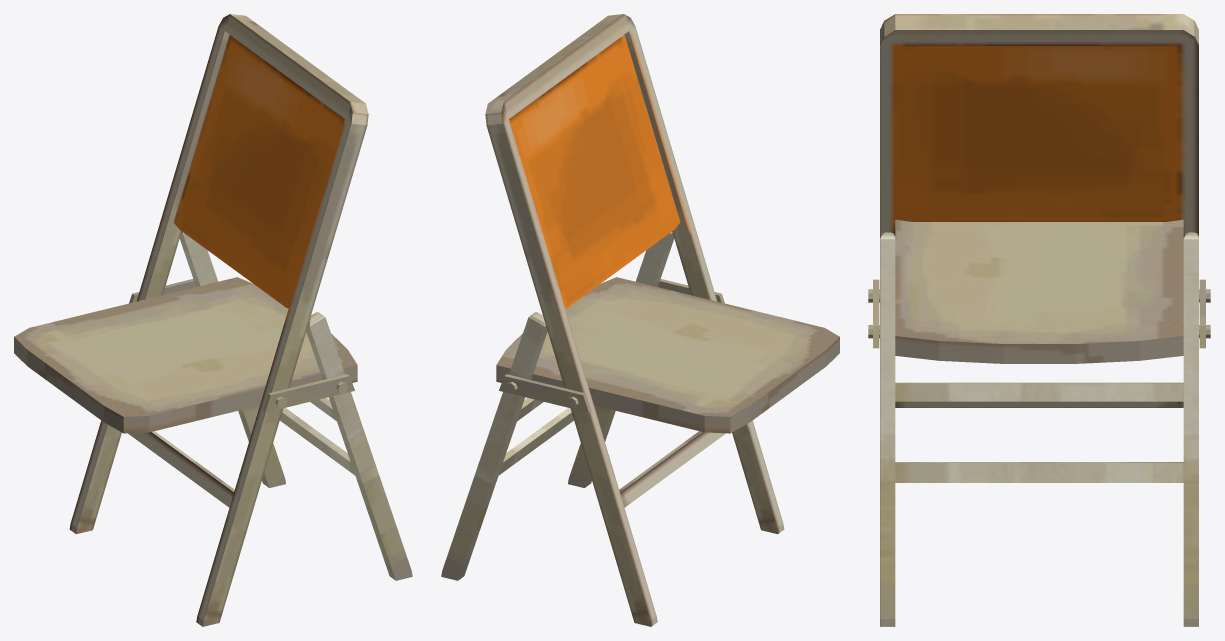
File: TheEverchair.fbx
3 views of the same model, side by side, from view 1: azimuth 30°, elevation 25°; view 2: azimuth 150°, elevation 25°; view 3: azimuth 270°, elevation 25° (orthographic). The views are drawn at different scales.
Parts seen in each view (by area): view 1: Cube.003, Cylinder.001, Cube.001, Cube.002; view 2: Cube.003, Cylinder.001, Cube.001, Cube.002; view 3: Cube.003, Cylinder.001, Cube.001, Cube.002.
Boxes of the visible parts, left/top/right/bottom form: Cube.003: left=69, top=14, right=368, bottom=626; Cylinder.001: left=14, top=277, right=357, bottom=433; Cube.001: left=179, top=231, right=412, bottom=580; Cube.002: left=129, top=279, right=354, bottom=412; Cube.003: left=485, top=14, right=784, bottom=626; Cylinder.001: left=496, top=277, right=839, bottom=433; Cube.001: left=441, top=231, right=674, bottom=580; Cube.002: left=499, top=279, right=724, bottom=412; Cube.003: left=880, top=14, right=1198, bottom=407; Cylinder.001: left=895, top=219, right=1183, bottom=363; Cube.001: left=880, top=232, right=1198, bottom=626; Cube.002: left=873, top=279, right=1205, bottom=348.
Bounding box in the file's own units: 270 × 444 × 237.
